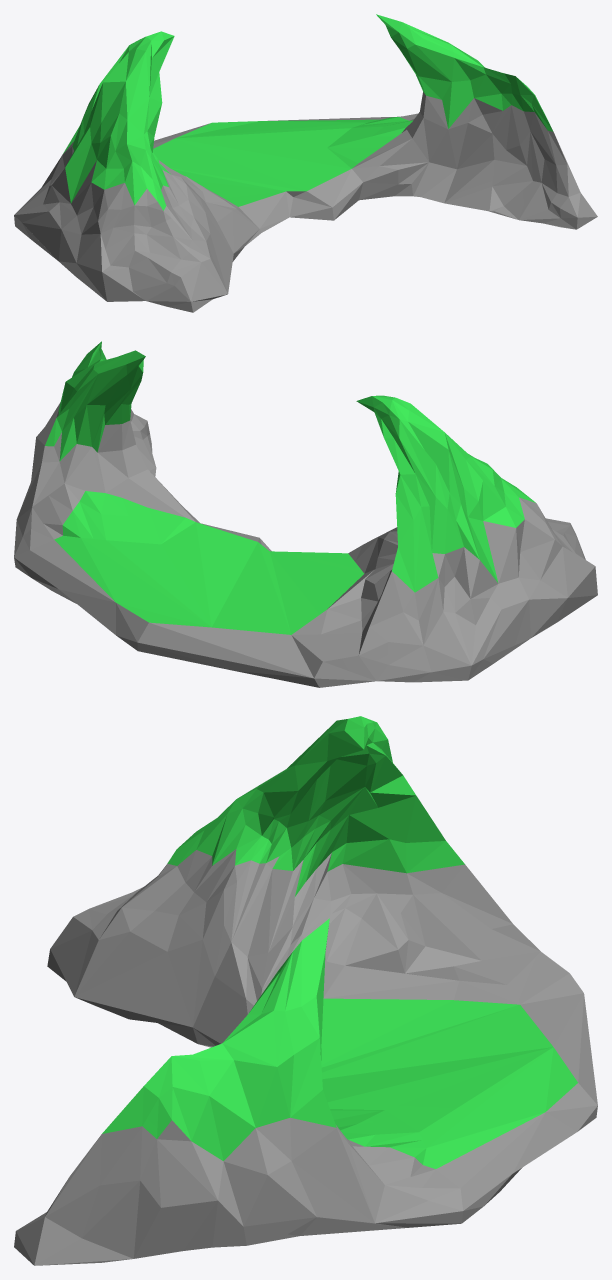
Rendered from isma gress.fbx.
The picture shows the model from 3 angles, top to bottom: view 1: azimuth 30°, elevation 25°; view 2: azimuth 150°, elevation 25°; view 3: azimuth 270°, elevation 25°; orthographic projection. The views are drawn at different scales.
Visible parts, largest first — view 1: 평면.004; view 2: 평면.004; view 3: 평면.004.
Boxes of the visible parts, <box> form: 평면.004: <box>14,14,597,312</box>; 평면.004: <box>14,341,597,687</box>; 평면.004: <box>14,716,597,1265</box>.
Size of the model in its own units: 10101 by 4177 by 7265.
